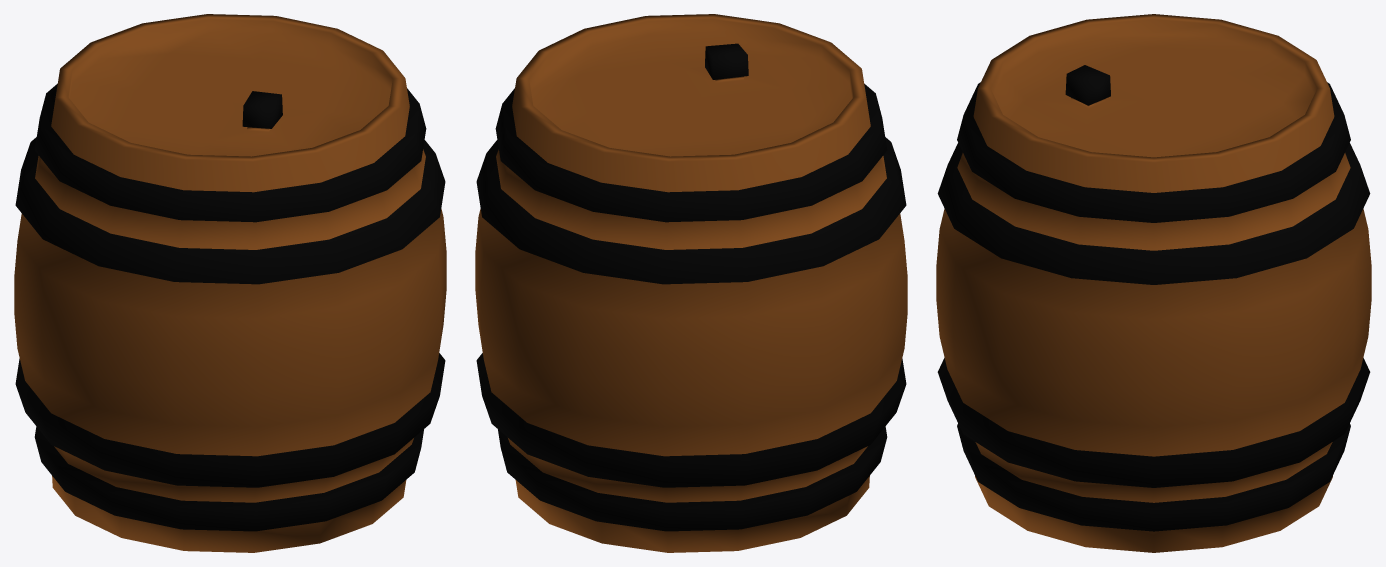
Rendered from Barrel.fbx.
The picture shows the model from 3 angles, left to right: view 1: azimuth 30°, elevation 25°; view 2: azimuth 150°, elevation 25°; view 3: azimuth 270°, elevation 25°; orthographic projection.
Parts seen in each view (by area): view 1: Cylinder.001; view 2: Cylinder.001; view 3: Cylinder.001.
Boxes of the visible parts, bbox=[...] form: Cylinder.001: bbox=[14, 14, 446, 552]; Cylinder.001: bbox=[475, 14, 907, 552]; Cylinder.001: bbox=[936, 14, 1371, 552].
Bounding box in the file's own units: 0.6082 × 0.6201 × 0.6082.
